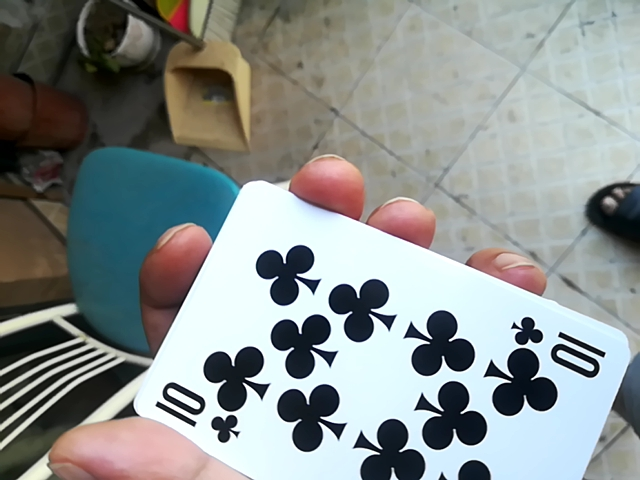mh 10: (89, 168, 635, 475)
